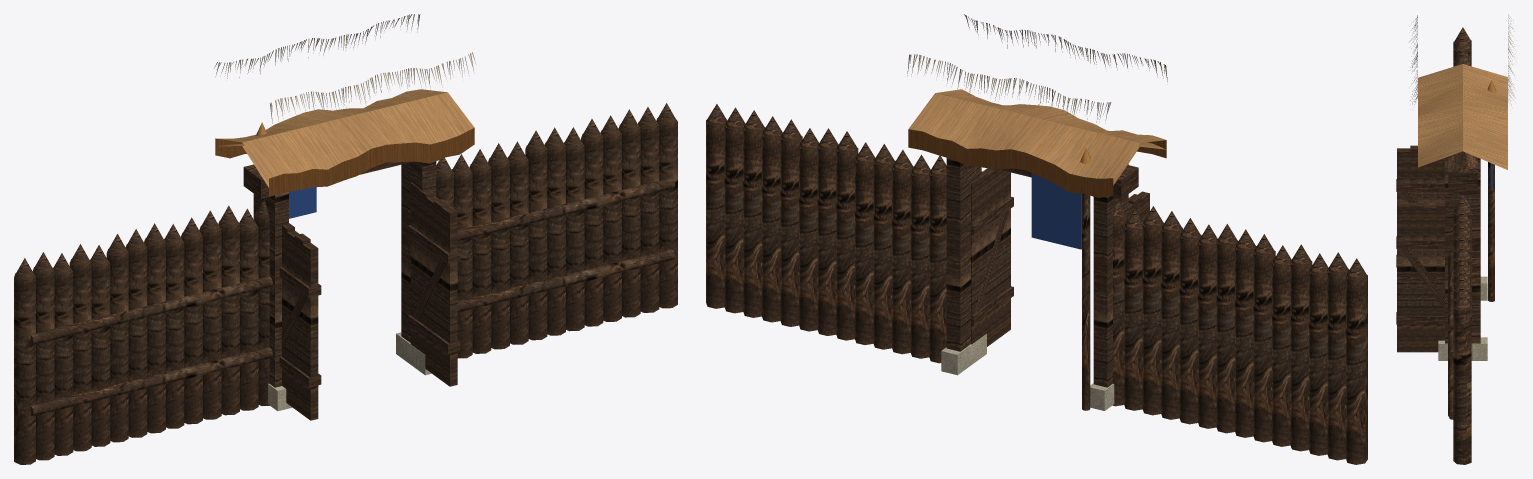
The model's file is woodgate@1.glb.
The picture shows the model from 3 angles, left to right: view 1: azimuth 30°, elevation 25°; view 2: azimuth 150°, elevation 25°; view 3: azimuth 270°, elevation 25°; orthographic projection. The views are drawn at different scales.
Parts seen in each view (by area): view 1: part_0, part_2, part_3, part_6, part_1, part_4; view 2: part_0, part_2, part_3, part_4, part_6, part_1; view 3: part_0, part_2, part_1, part_6.
Part boxes in pixels (<box>): part_0: <box>14,103,677,464</box>; part_2: <box>218,89,474,187</box>; part_3: <box>215,127,474,196</box>; part_6: <box>214,14,476,123</box>; part_1: <box>268,332,431,411</box>; part_4: <box>289,187,316,218</box>; part_0: <box>706,104,1367,464</box>; part_2: <box>908,89,1165,185</box>; part_3: <box>908,129,1166,197</box>; part_4: <box>1031,173,1081,249</box>; part_6: <box>907,14,1167,124</box>; part_1: <box>941,333,1114,410</box>; part_0: <box>1396,27,1494,464</box>; part_2: <box>1418,64,1507,169</box>; part_1: <box>1438,276,1487,360</box>; part_6: <box>1409,14,1515,104</box>.
Size of the model in its own units: 6.12 by 2.89 by 1.17.
Materials: 7 (4 with a texture image).
